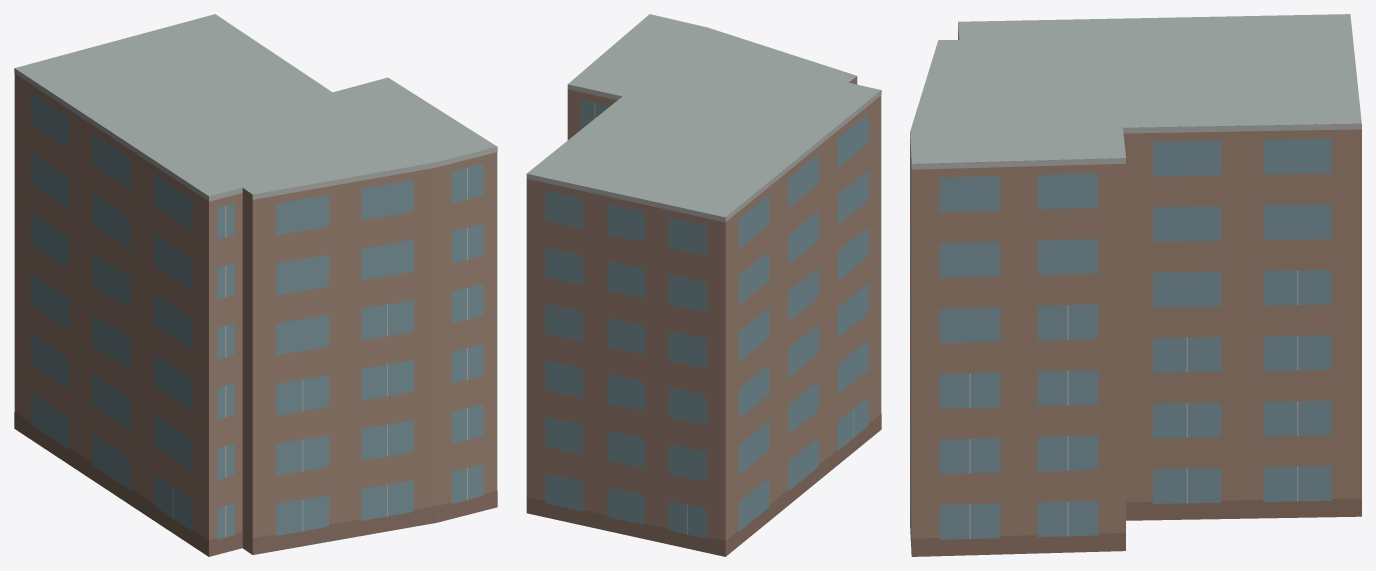
File: survey-upis-32968786.glb
3 views of the same model, side by side, from view 1: azimuth 30°, elevation 25°; view 2: azimuth 150°, elevation 25°; view 3: azimuth 270°, elevation 25° (orthographic). The views are drawn at different scales.
Visible parts, largest first — view 1: survey-upis-32968786.tmp; view 2: survey-upis-32968786.tmp; view 3: survey-upis-32968786.tmp.
Boxes of the visible parts, bbox=[...] form: survey-upis-32968786.tmp: bbox=[14, 14, 497, 556]; survey-upis-32968786.tmp: bbox=[526, 14, 881, 556]; survey-upis-32968786.tmp: bbox=[910, 14, 1361, 556].
Bounding box in the file's own units: 13.63 × 16.65 × 17.36.
